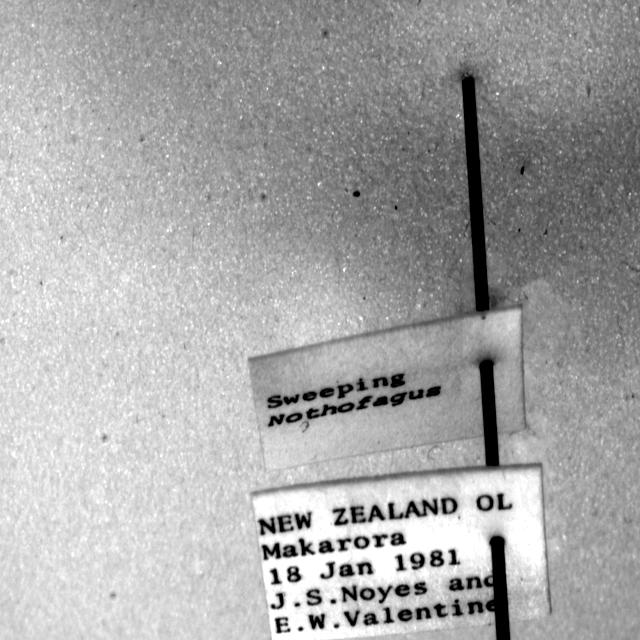typed_label: (252, 465, 551, 639), (249, 306, 525, 471)
